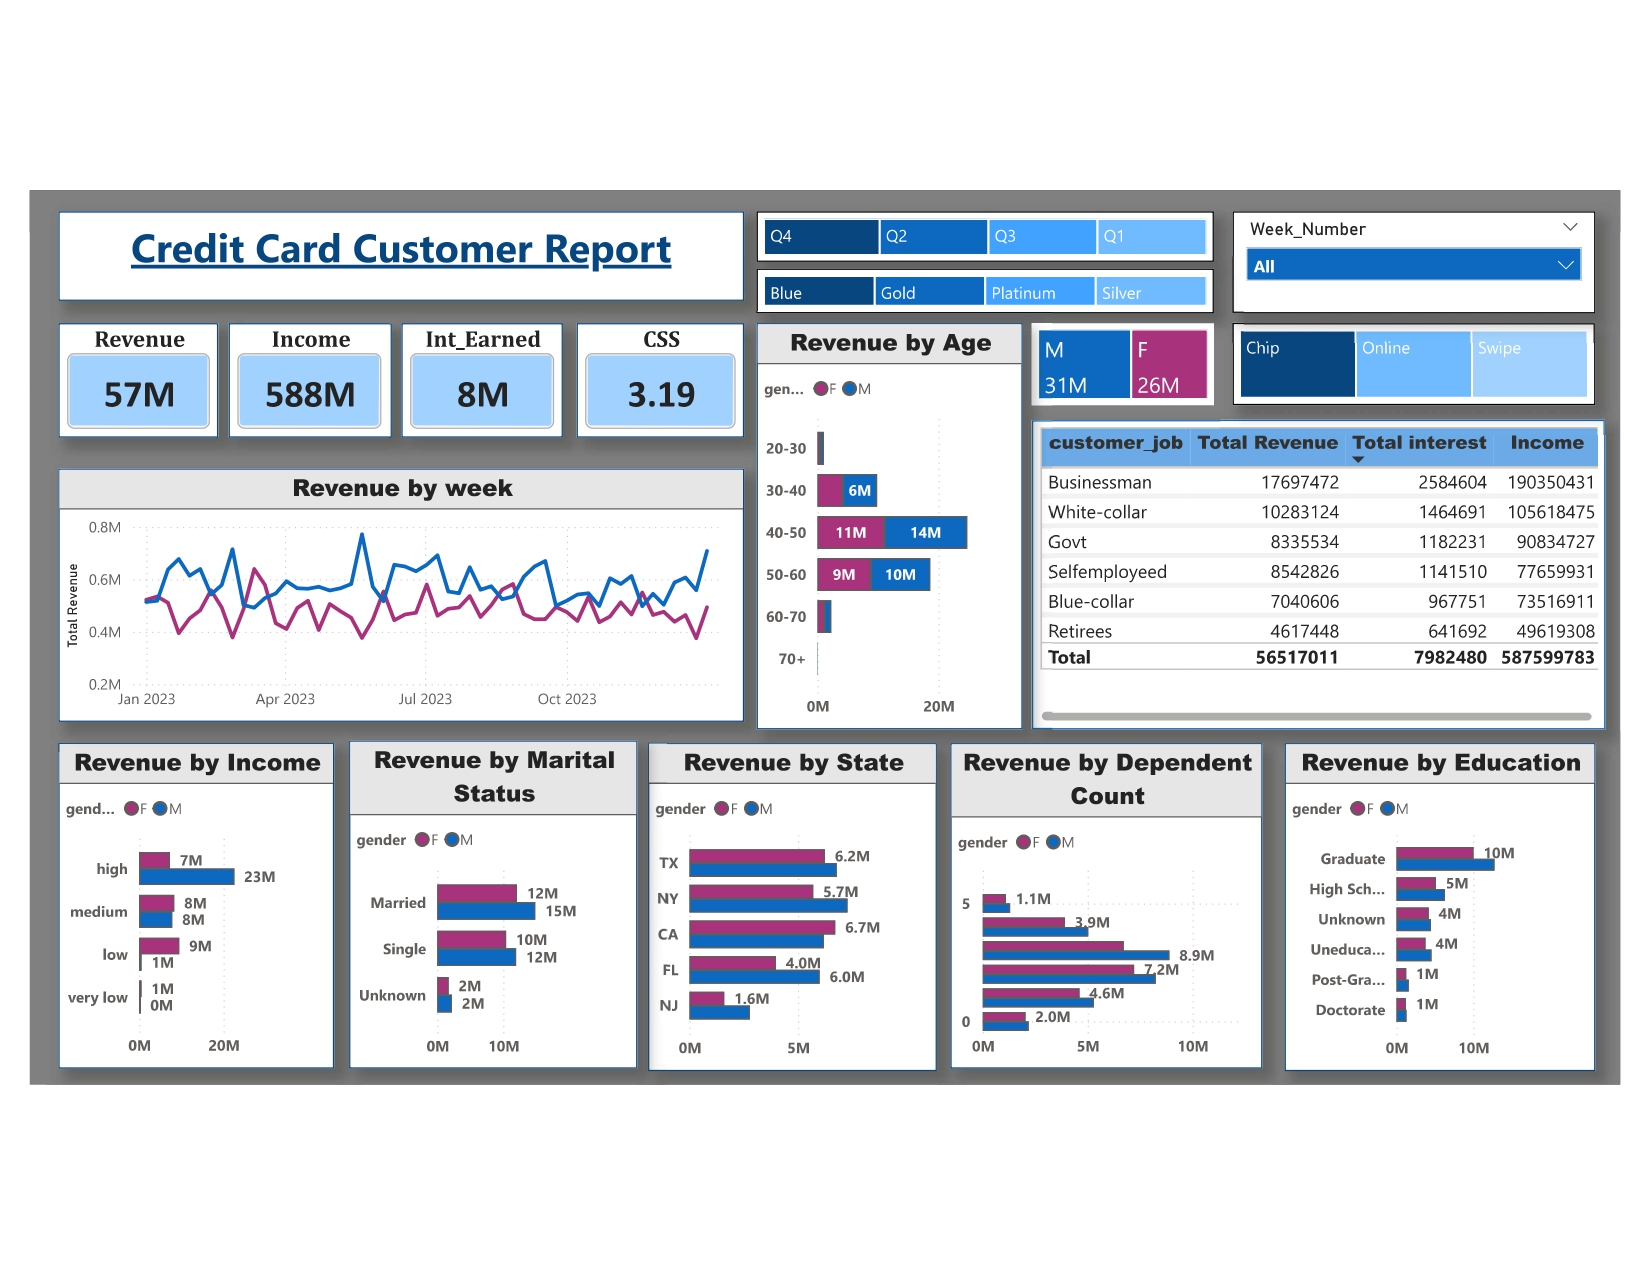

The dashboard page shown, as its layout file describes it:
{"tool":"powerbi","page":{"name":"customer_report","canvas":[1280,720],"ordinal":1},"visuals":[{"type":"textbox","box":[22.9,16.9,552.5,72.4],"z":0},{"type":"clusteredBarChart","title":"Revenue by Income","fields":{"Y":["Sum(Credit_Card.Revenue)"],"Category":["Customer.Income_group"],"Series":["Customer.gender"]},"box":[22.9,445.2,222,261.8],"z":1000},{"type":"tableEx","fields":{"Values":["Customer.customer_job","Sum(Credit_Card.Revenue)","Sum(Credit_Card.interest_earned)","Sum(Customer.income)"]},"box":[807.1,184.6,460.9,249.7],"z":2000},{"type":"cardVisual","title":"Revenue","fields":{"Data":["Sum(Credit_Card.Revenue)"]},"box":[22.9,107.4,129.1,91.7],"z":3000},{"type":"cardVisual","title":"Income","fields":{"Data":["Sum(Customer.income)"]},"box":[160.5,107.4,130.3,91.7],"z":4000},{"type":"cardVisual","title":"Int_Earned","fields":{"Data":["Sum(Credit_Card.interest_earned)"]},"box":[299.2,107.4,130.3,91.7],"z":5000},{"type":"cardVisual","title":"CSS","fields":{"Data":["Avg(Customer.cust_satisfaction_score)"]},"box":[440.4,107.4,135.1,91.7],"z":6000},{"type":"treemap","fields":{"Values":["CountNonNull(Credit_Card.qtr)"],"Group":["Credit_Card.qtr"]},"box":[585.1,16.9,368,41],"z":7000},{"type":"treemap","fields":{"Values":["Count(Credit_Card.use_chip)"],"Group":["Credit_Card.use_chip"]},"box":[967.6,107.4,292,65.1],"z":8000},{"type":"slicer","fields":{"Values":["Credit_Card.week_num"]},"box":[967.6,16.9,292,82],"z":9000},{"type":"treemap","fields":{"Values":["Count(Credit_Card.card_category)"],"Group":["Credit_Card.card_category"]},"box":[585.1,62.7,368,36.2],"z":10000},{"type":"lineChart","title":"Revenue by week","fields":{"Y":["Sum(Credit_Card.Revenue)"],"Series":["Customer.gender"],"Category":["Credit_Card.week_start_date.Variation.Date Hierarchy.Year","Credit_Card.week_start_date.Variation.Date Hierarchy.Month","Credit_Card.week_start_date.Variation.Date Hierarchy.Day"]},"box":[22.9,224.4,552.5,203.9],"z":11000},{"type":"treemap","fields":{"Group":["Customer.gender"],"Values":["Sum(Credit_Card.Revenue)"]},"box":[807.1,107.4,146,65.1],"z":12000},{"type":"barChart","title":"Revenue by Age","fields":{"Category":["Customer.Age_Group"],"Y":["Sum(Credit_Card.Revenue)"],"Series":["Customer.gender"]},"box":[585.1,107.4,213.5,326.9],"z":13000},{"type":"clusteredBarChart","title":"Revenue by State","fields":{"Y":["Sum(Credit_Card.Revenue)"],"Category":["Customer.state_cd"],"Series":["Customer.gender"]},"box":[498.3,445.2,231.6,264.2],"z":14000},{"type":"clusteredBarChart","title":"Revenue by Dependent Count","fields":{"Y":["Sum(Credit_Card.Revenue)"],"Category":["Customer.dependent_count"],"Series":["Customer.gender"]},"box":[740.8,445.2,250.9,261.8],"z":15000},{"type":"clusteredBarChart","title":"Revenue by Education","fields":{"Y":["Sum(Credit_Card.Revenue)"],"Category":["Customer.education_level"],"Series":["Customer.gender"]},"box":[1009.8,445.2,249.7,264.2],"z":16000},{"type":"clusteredBarChart","title":"Revenue by Marital Status","fields":{"Y":["Sum(Credit_Card.Revenue)"],"Category":["Customer.marital_status"],"Series":["Customer.gender"]},"box":[257,442.8,231.6,264.2],"z":17000}]}

Visuals, with their boxes in screenshot pixels (x1, y1, x2, y2):
textbox: BBox(29, 206, 731, 298)
"Revenue by Income" clusteredBarChart: BBox(29, 751, 311, 1084)
tableEx - Customer.customer_job x Sum(Credit_Card.Revenue): BBox(1026, 419, 1612, 737)
"Revenue" cardVisual: BBox(29, 321, 193, 438)
"Income" cardVisual: BBox(204, 321, 370, 438)
"Int_Earned" cardVisual: BBox(380, 321, 546, 438)
"CSS" cardVisual: BBox(560, 321, 732, 438)
treemap - CountNonNull(Credit_Card.qtr) x Credit_Card.qtr: BBox(744, 206, 1212, 258)
treemap - Count(Credit_Card.use_chip) x Credit_Card.use_chip: BBox(1230, 321, 1601, 404)
slicer - Credit_Card.week_num: BBox(1230, 206, 1601, 310)
treemap - Count(Credit_Card.card_category) x Credit_Card.card_category: BBox(744, 264, 1212, 310)
"Revenue by week" lineChart: BBox(29, 470, 731, 729)
treemap - Customer.gender x Sum(Credit_Card.Revenue): BBox(1026, 321, 1212, 404)
"Revenue by Age" barChart: BBox(744, 321, 1015, 737)
"Revenue by State" clusteredBarChart: BBox(633, 751, 928, 1087)
"Revenue by Dependent Count" clusteredBarChart: BBox(942, 751, 1261, 1084)
"Revenue by Education" clusteredBarChart: BBox(1284, 751, 1601, 1087)
"Revenue by Marital Status" clusteredBarChart: BBox(327, 748, 621, 1084)
